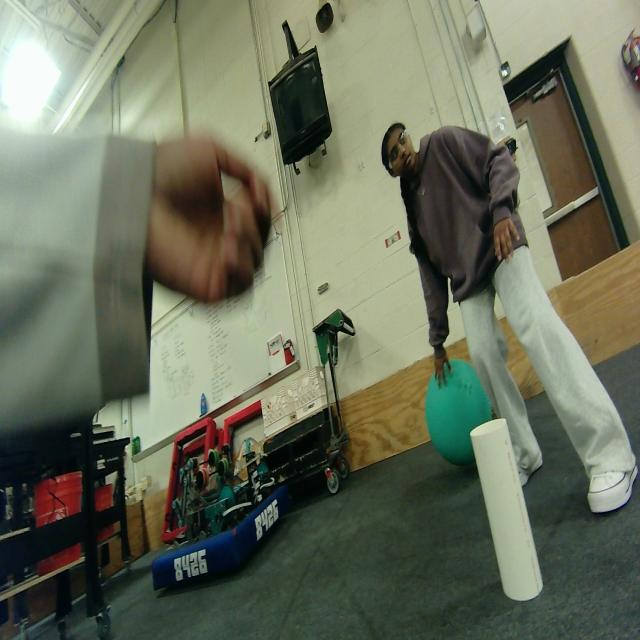algae: (422, 356, 497, 467)
coral: (468, 411, 549, 604)
